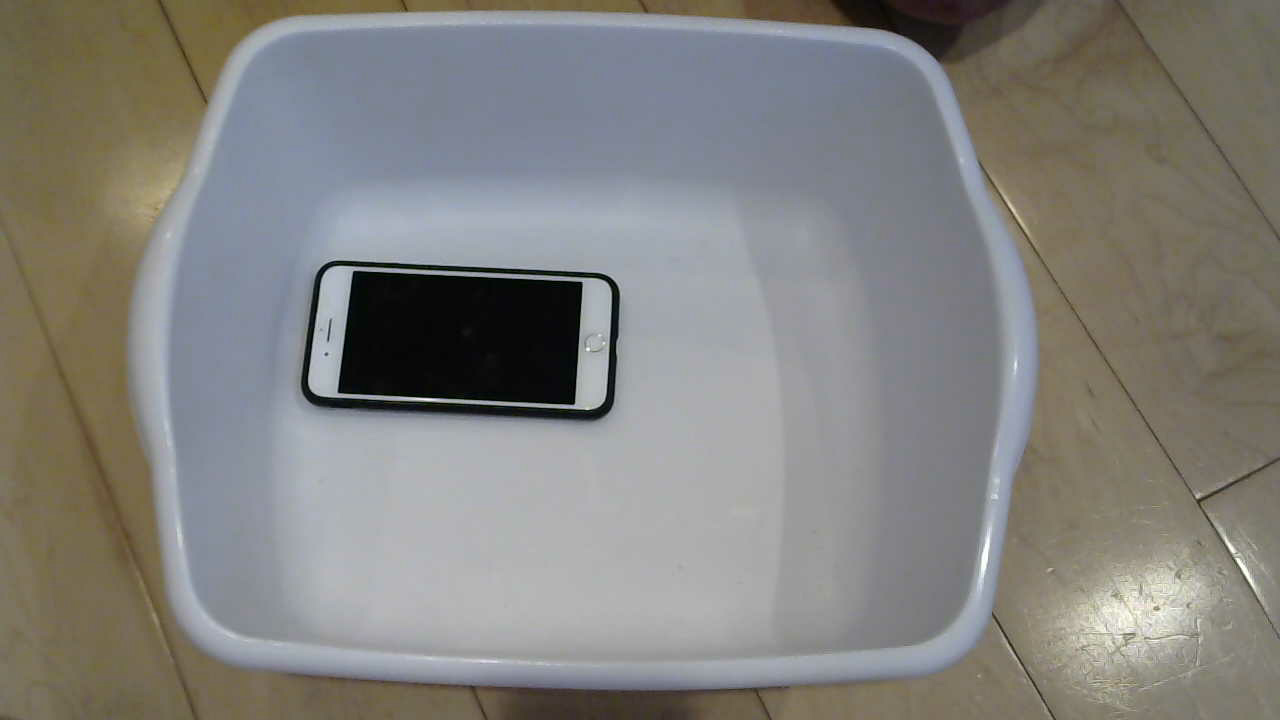phone: (254, 248, 628, 425)
